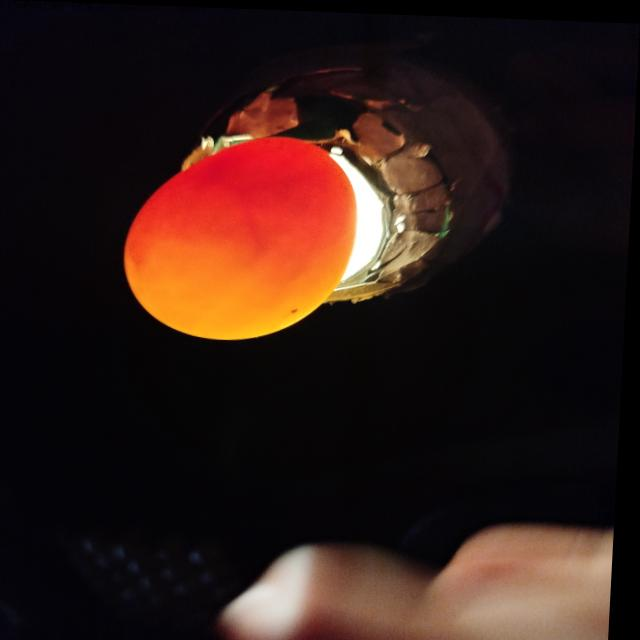Gema Quebrada: (127, 133, 359, 303)
